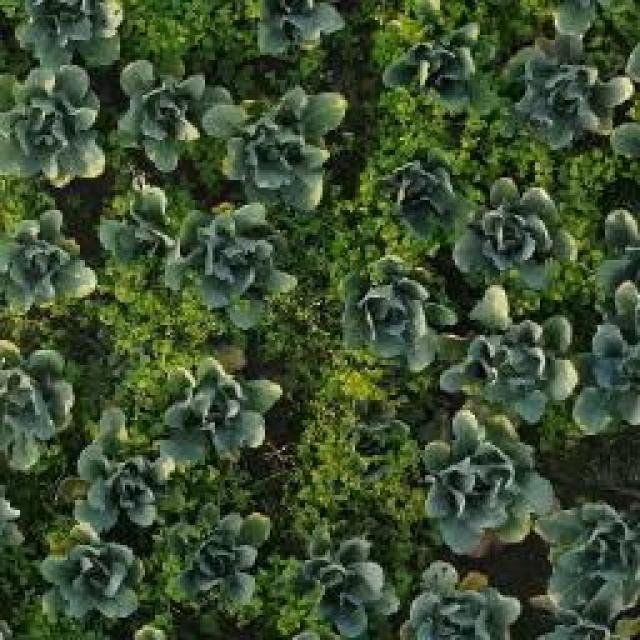cabbage: (412, 422, 540, 544), (444, 292, 566, 418), (464, 178, 584, 289), (35, 508, 145, 628), (215, 87, 326, 195), (546, 518, 640, 640), (167, 370, 281, 463), (296, 534, 401, 634), (169, 520, 279, 614), (4, 69, 105, 171), (79, 427, 174, 533), (190, 210, 290, 308), (1, 210, 97, 304), (344, 263, 441, 355), (388, 12, 478, 110), (118, 68, 216, 158), (523, 36, 609, 128), (407, 576, 514, 640), (0, 357, 66, 452), (378, 153, 456, 232), (106, 188, 184, 262), (334, 394, 414, 464), (251, 0, 341, 59)
